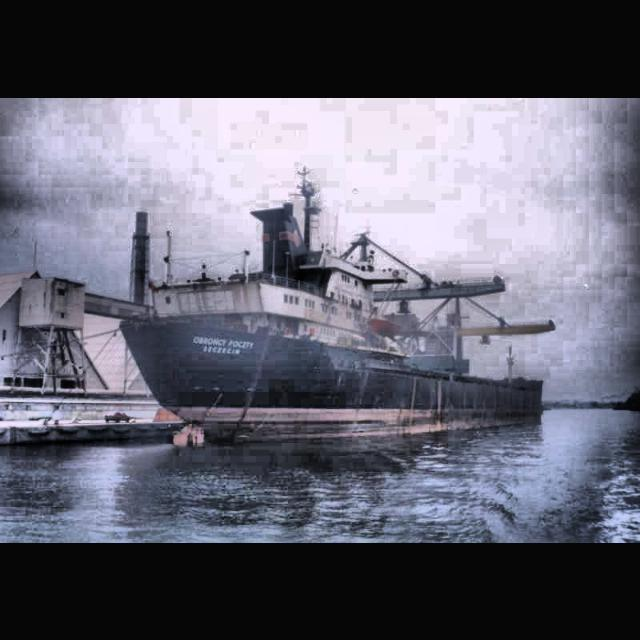bulk_carrier: (120, 171, 558, 449)
